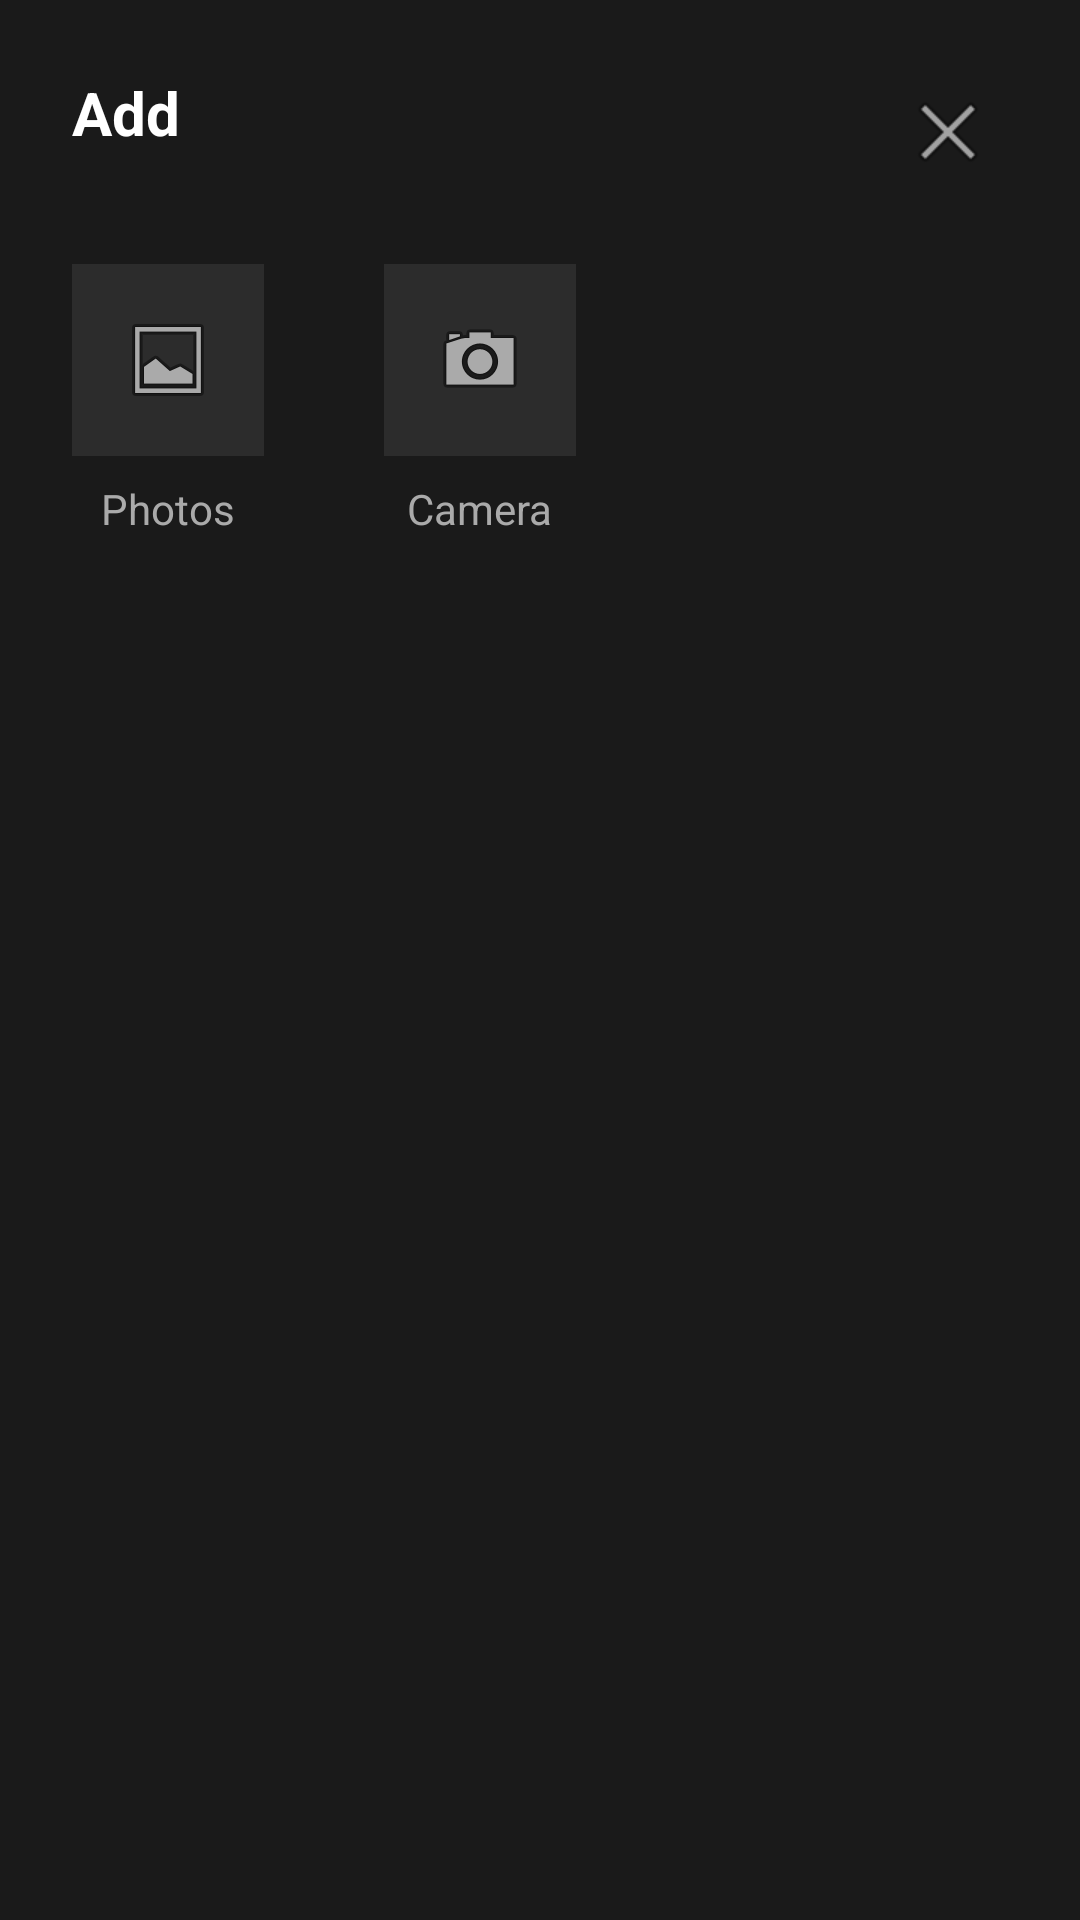

Where icons sit on this 1080px x 1920px app screen, as (x1, y1, x2, y2):
Close: (921, 105, 975, 159)
gallery: (72, 264, 264, 456)
